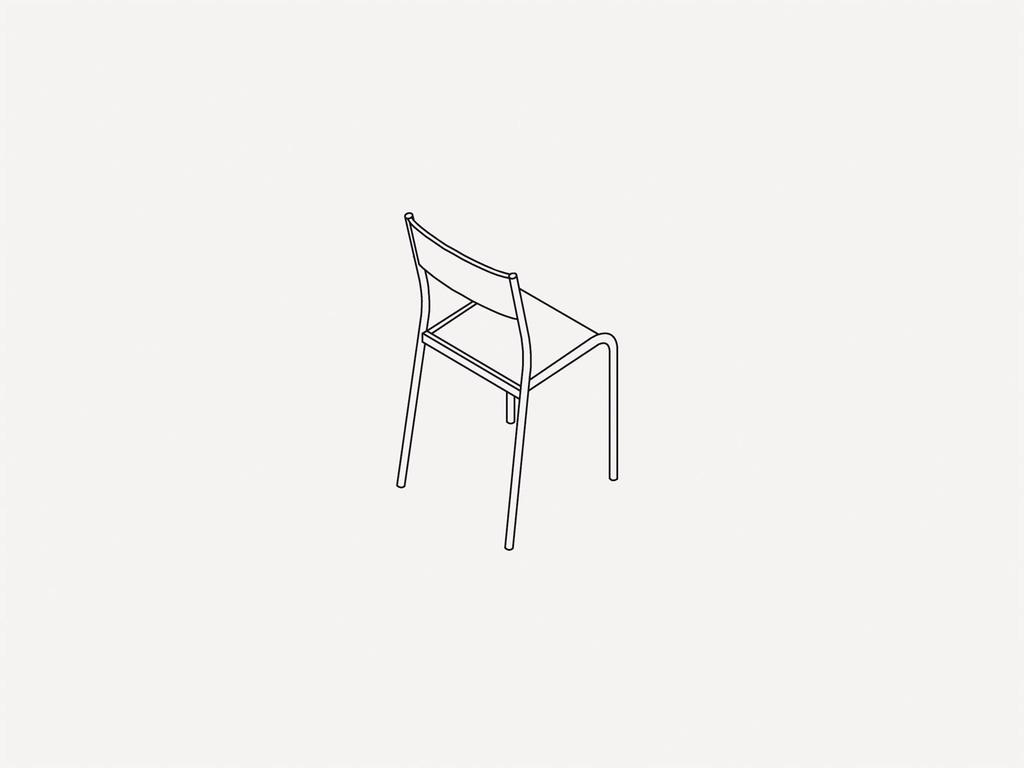Chair: (381, 196, 641, 554)
